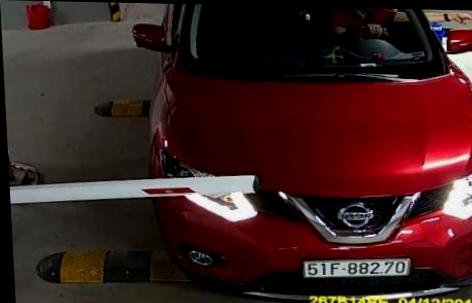License_Plate: (302, 249, 415, 285)
